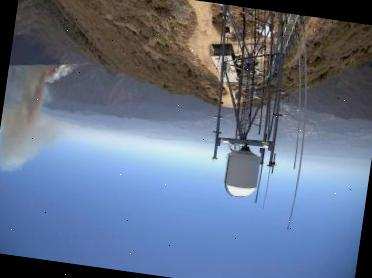smoke: (0, 51, 74, 177)
